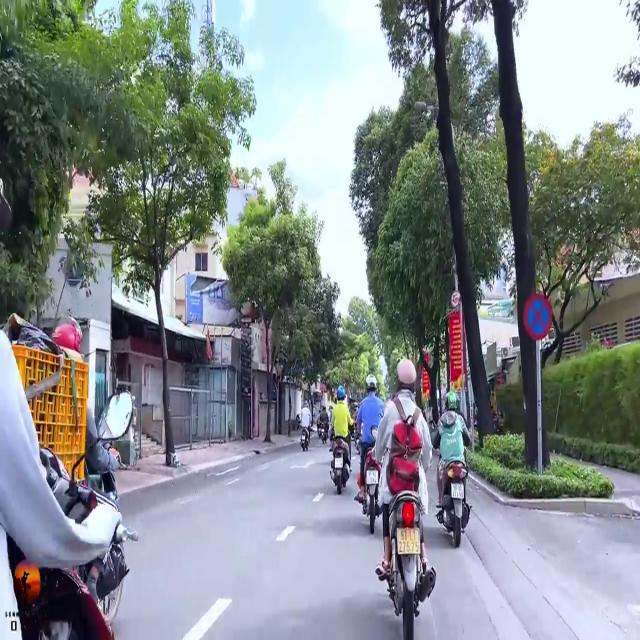bien_vang: (396, 525, 422, 557)
